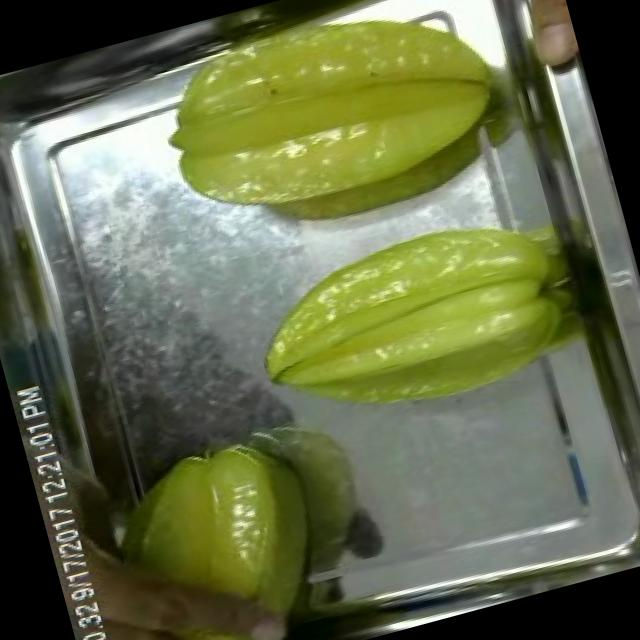fruit: (227, 188, 606, 458), (135, 0, 526, 252), (66, 415, 349, 640)
